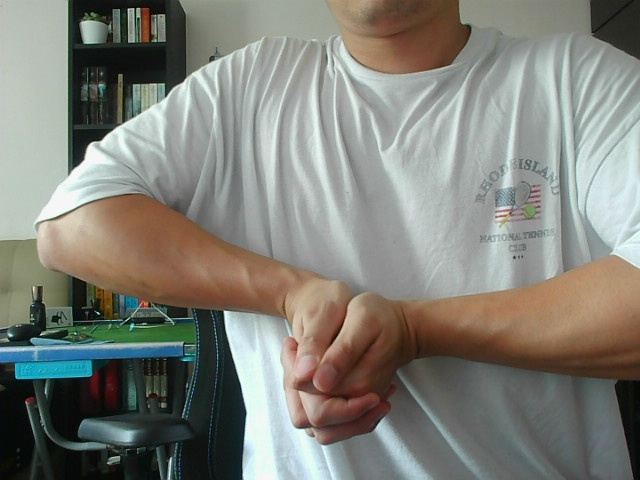Boar: (259, 240, 436, 462)
